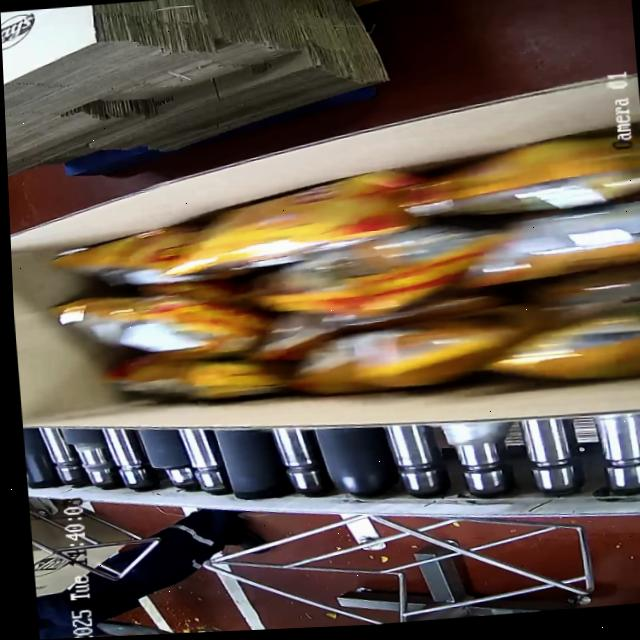FRENCH_CHEESE: (25, 136, 640, 422)
